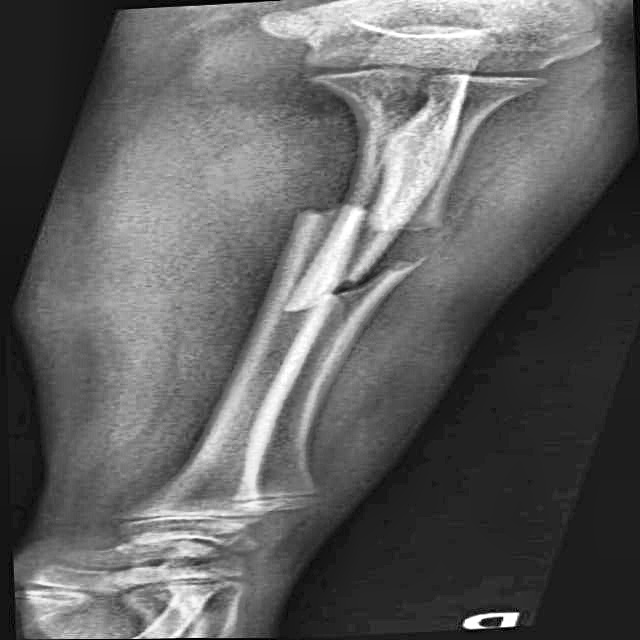Oblique: (227, 178, 477, 335)
